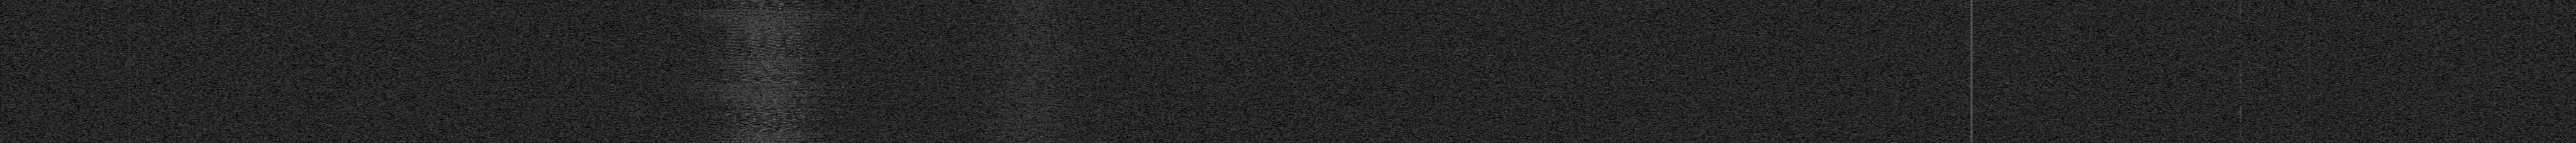wv_am: (128, 0, 131, 131), (128, 136, 131, 143), (128, 131, 131, 136)
wv_cw: (1970, 0, 1973, 143)
wv_lsb: (2307, 33, 2311, 102), (2238, 56, 2242, 100), (2238, 100, 2242, 143), (2238, 2, 2242, 30), (2307, 102, 2311, 125), (2308, 2, 2311, 31), (2307, 125, 2311, 143), (2238, 33, 2241, 44), (2238, 49, 2241, 54)
wv_wbfm: (665, 0, 869, 143), (950, 0, 1115, 143)
